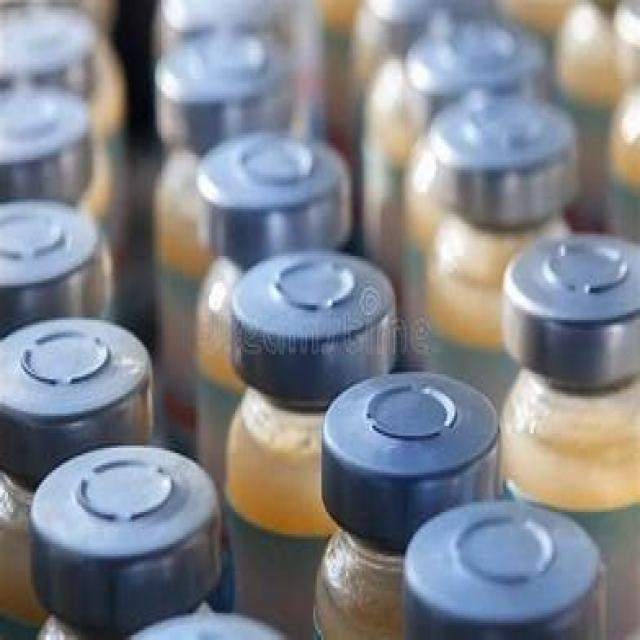vial: (416, 520, 595, 640), (239, 252, 411, 355), (509, 228, 640, 362), (320, 374, 480, 480), (42, 470, 218, 564), (0, 315, 161, 413), (201, 128, 352, 222), (420, 112, 580, 197), (157, 31, 300, 110), (0, 82, 106, 178), (0, 3, 108, 77), (417, 26, 532, 90), (0, 209, 112, 269), (168, 0, 323, 40), (379, 0, 498, 18)
